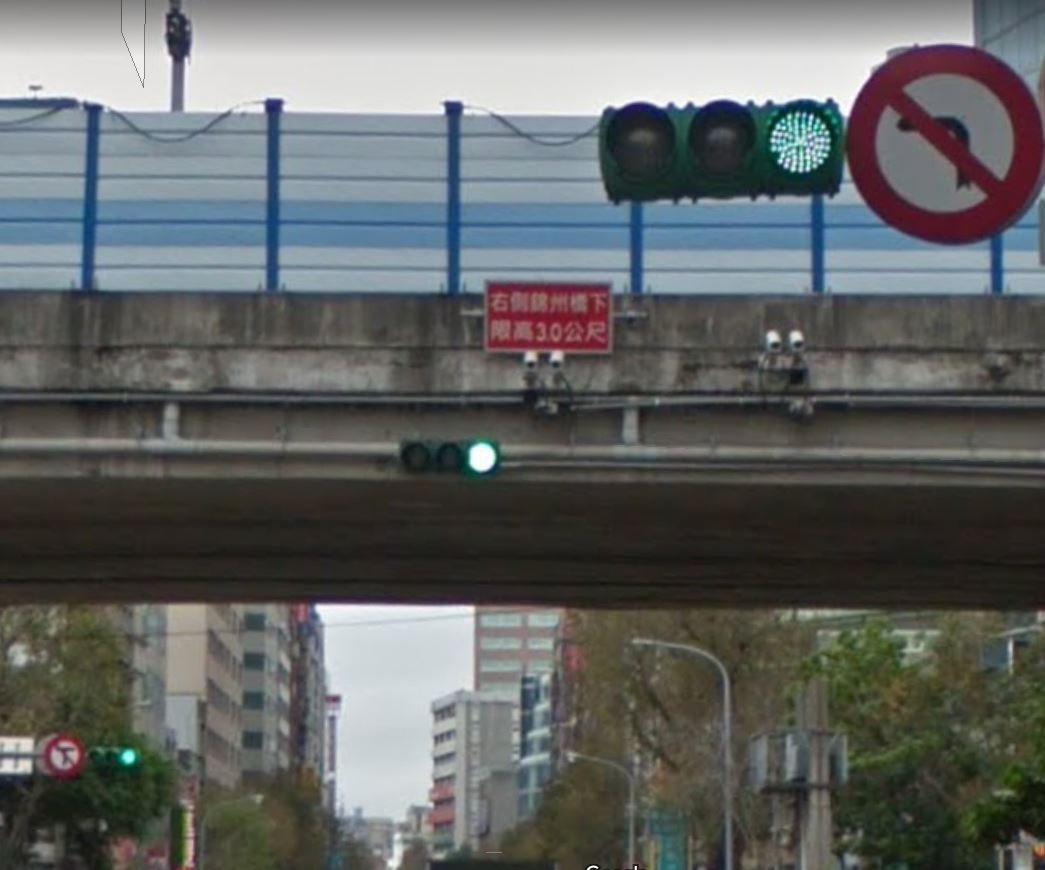Traffic_light_green: (599, 98, 848, 201), (397, 436, 502, 479)
